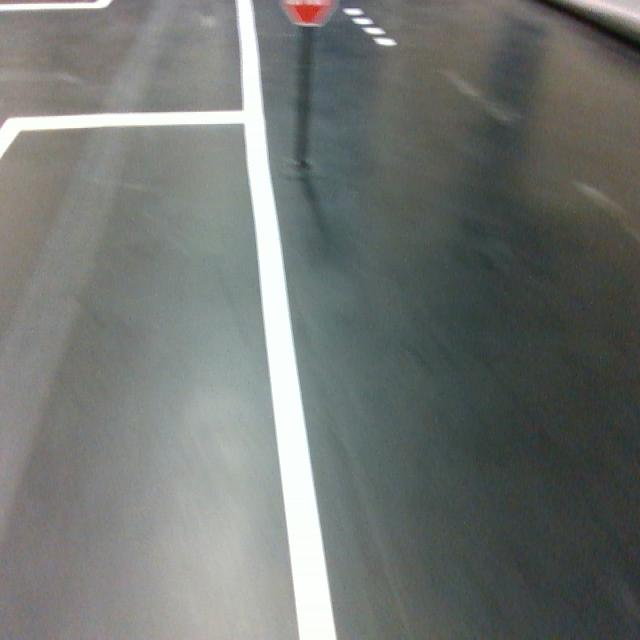stop-sign: (277, 0, 339, 27)
